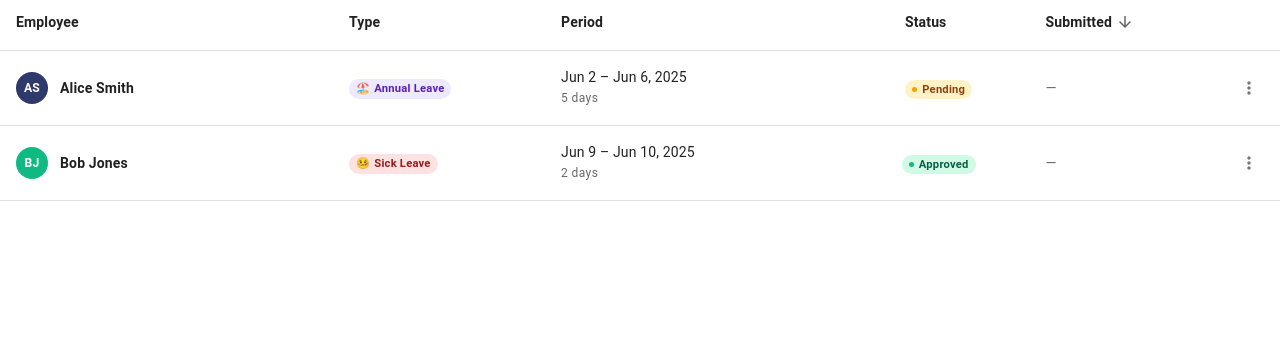
it: LeaveTable › opens the actions menu when the kebab button is clicked
This screenshot has width=1280, height=363.
Click the button named "actions for".
click(1249, 88)  # box [1234,73,1264,103]
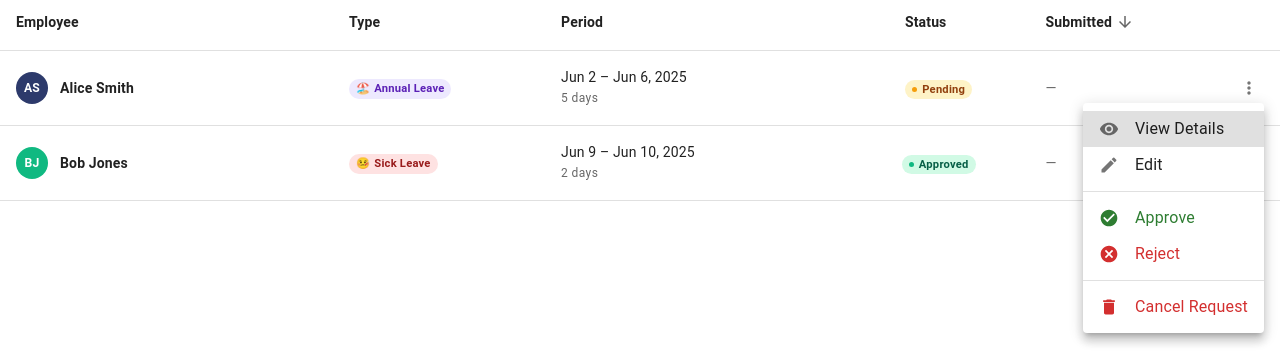
expect the menu item with aria-label "view leave details" is shown: met, box [1083,111,1264,147]
